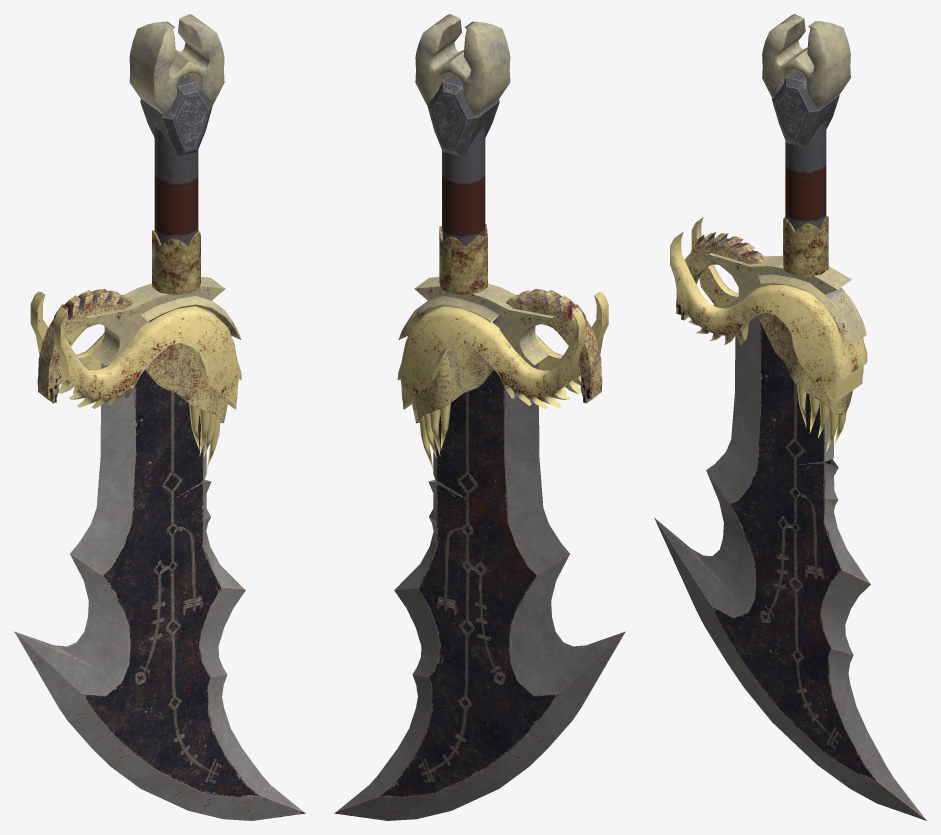
File: chaos.glb
3 views of the same model, side by side, from view 1: azimuth 30°, elevation 25°; view 2: azimuth 150°, elevation 25°; view 3: azimuth 330°, elevation 25° (orthographic). The views are drawn at different scales.
Visible parts, largest first — view 1: chaos_blade, chaos_guard, chaos_pommel, chaos_grip; view 2: chaos_blade, chaos_guard, chaos_pommel, chaos_grip; view 3: chaos_blade, chaos_guard, chaos_pommel, chaos_grip.
Boxes of the visible parts, x1=… form: chaos_blade: x1=14, y1=362, x2=305, y2=820; chaos_guard: x1=30, y1=277, x2=241, y2=469; chaos_pommel: x1=129, y1=14, x2=224, y2=156; chaos_grip: x1=152, y1=127, x2=200, y2=295; chaos_blade: x1=334, y1=362, x2=625, y2=820; chaos_guard: x1=397, y1=277, x2=608, y2=469; chaos_pommel: x1=415, y1=14, x2=510, y2=156; chaos_grip: x1=439, y1=127, x2=487, y2=294; chaos_blade: x1=654, y1=315, x2=926, y2=820; chaos_guard: x1=670, y1=217, x2=867, y2=451; chaos_pommel: x1=762, y1=14, x2=850, y2=146; chaos_grip: x1=783, y1=121, x2=828, y2=276.
Bounding box in the file's own units: 0.3337 × 0.9 × 0.0834.
Materials: 8 (8 with a texture image).
